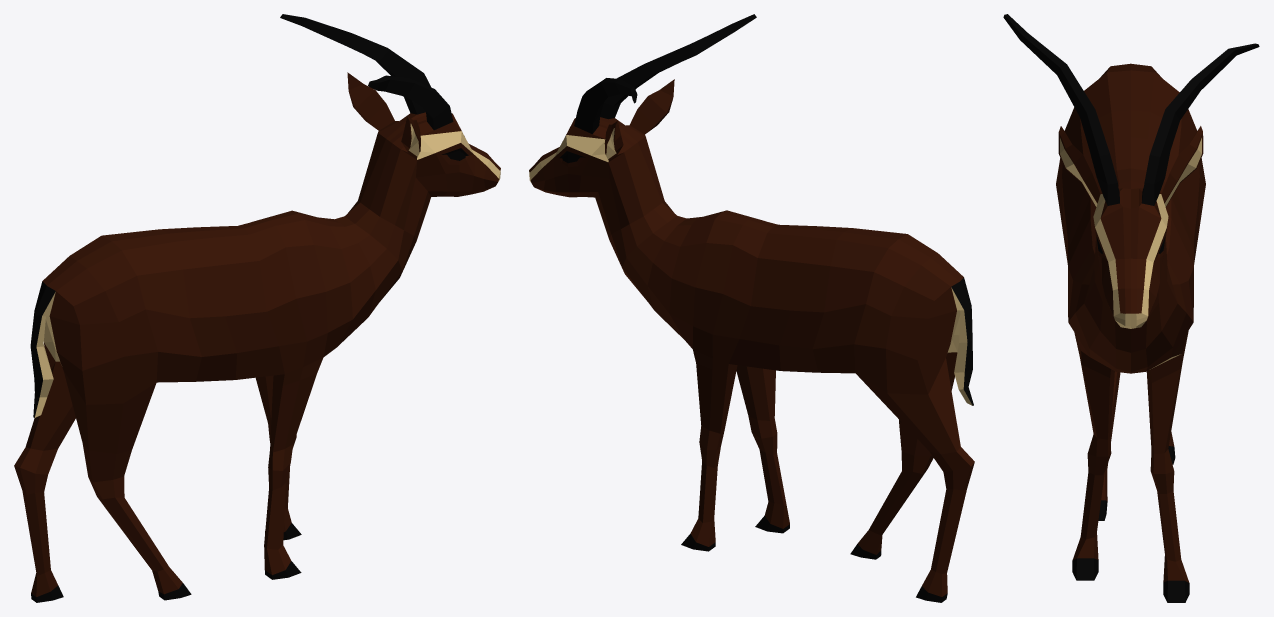
The model's file is gacela.obj.
The picture shows the model from 3 angles, left to right: view 1: azimuth 30°, elevation 25°; view 2: azimuth 150°, elevation 25°; view 3: azimuth 270°, elevation 25°; orthographic projection. The views are drawn at different scales.
Parts seen in each view (by area): view 1: Gazelle; view 2: Gazelle; view 3: Gazelle.
Part boxes in pixels (x1=…): Gazelle: x1=14, y1=14, x2=500, y2=602; Gazelle: x1=529, y1=14, x2=974, y2=602; Gazelle: x1=1003, y1=14, x2=1259, y2=602.
Bounding box in the file's own units: 1.39 × 1.41 × 0.5547.
